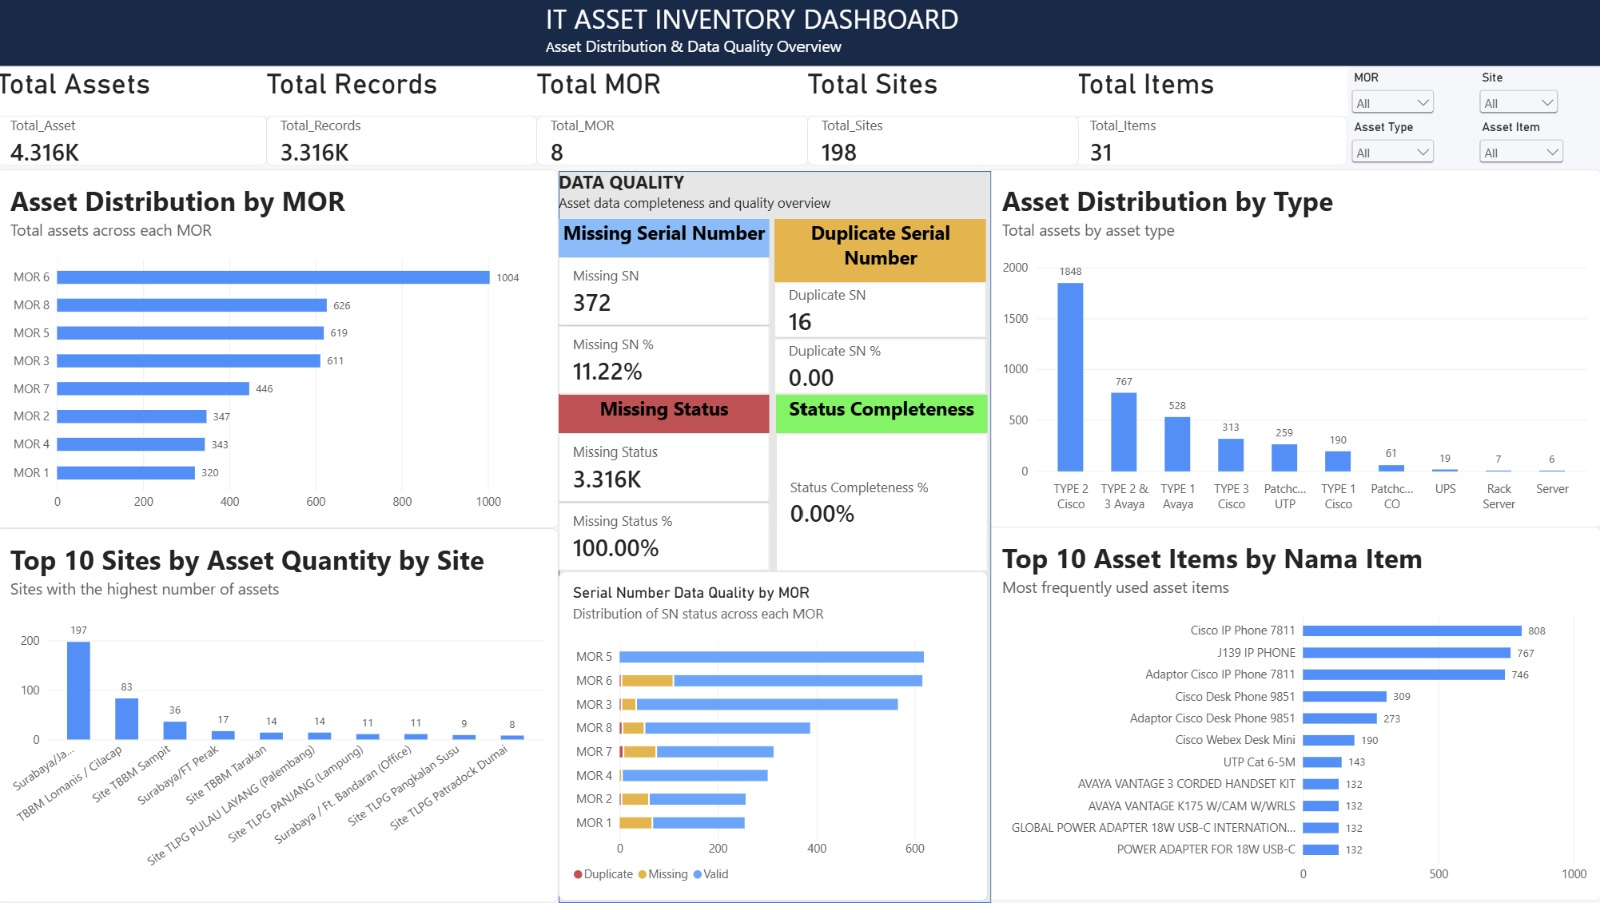

The dashboard page shown, as its layout file describes it:
{"tool":"powerbi","page":{"name":"Overview","canvas":[1920,1080],"ordinal":0},"visuals":[{"type":"barChart","title":"Asset Distribution by MOR","fields":{"Category":["Clean_Data.MOR"],"Y":["Clean_Data.Total_Asset"]},"box":[0,202.7,673.1,428.4],"z":0},{"type":"clusteredColumnChart","title":"Asset Distribution by Type","fields":{"Category":["Clean_Data.Nama Type"],"Y":["Clean_Data.Total_Asset"]},"box":[1185.7,202.7,734.3,428.4],"z":1000},{"type":"columnChart","fields":{"Category":["Clean_Data.Site"],"Y":["Clean_Data.Total_Asset"]},"box":[0,631.2,672.9,447.8],"z":2000},{"type":"barChart","fields":{"Category":["Clean_Data.Nama Item"],"Y":["Clean_Data.Total_Asset"]},"box":[1185.7,629.2,734,448],"z":3000},{"type":"shape","box":[2.1,0,1918.8,79.2],"z":4000},{"type":"textbox","box":[658.3,0,531.2,95.8],"z":5000},{"type":"cardVisual","title":"Total Assets","fields":{"Data":["Clean_Data.Total_Asset"]},"box":[0,81.3,325,118.8],"z":6000},{"type":"cardVisual","title":"Total Records","fields":{"Data":["Clean_Data.Total_Records"]},"box":[322.9,81.3,325,118.8],"z":7000},{"type":"cardVisual","title":"Total MOR","fields":{"Data":["Clean_Data.Total_MOR"]},"box":[645.8,81.3,325,118.8],"z":8000},{"type":"cardVisual","title":"Total Items","fields":{"Data":["Clean_Data.Total_Items"]},"box":[1291.7,81.3,325,118.8],"z":9000},{"type":"cardVisual","title":"Total Sites","fields":{"Data":["Clean_Data.Total_Sites"]},"box":[968.7,81.3,325,118.8],"z":10000},{"type":"shape","box":[672.9,204.2,516.7,875],"z":11000},{"type":"textbox","box":[672.9,202.1,516.7,60.4],"z":12000},{"type":"cardVisual","title":"Missing Serial Number","fields":{"Data":["Clean_Data.Missing SN","Clean_Data.Missing SN %"]},"box":[672.9,262.5,252.1,210.4],"z":13000},{"type":"cardVisual","title":"Duplicate Serial Number","fields":{"Data":["Clean_Data.Duplicate SN","Clean_Data.Duplicate SN %"]},"box":[931.2,262.5,252.1,210.4],"z":14000},{"type":"cardVisual","title":"Missing Status","fields":{"Data":["Clean_Data.Missing Status","Clean_Data.Missing Status %"]},"box":[672.9,472.9,252.1,210.4],"z":15000},{"type":"cardVisual","title":"Status Completeness","fields":{"Data":["Clean_Data.Status Completeness %"]},"box":[933.3,472.9,252.1,210.4],"z":16000},{"type":"barChart","title":"Serial Number Data Quality by MOR","fields":{"Category":["Clean_Data.MOR"],"Series":["Clean_Data.Serial Number Status"],"Y":["Clean_Data.Total_Records"]},"box":[672.9,683.3,512.5,393.8],"z":17000},{"type":"slicer","fields":{"Values":["Clean_Data.MOR"]},"box":[1616.7,83.3,108.3,58.3],"z":18000},{"type":"slicer","fields":{"Values":["Clean_Data.Site"]},"box":[1768.8,83.3,104.2,58.3],"z":19000},{"type":"slicer","fields":{"Values":["Clean_Data.Nama Type"]},"box":[1616.7,143.8,108.3,62.5],"z":20000},{"type":"slicer","fields":{"Values":["Clean_Data.Nama Item"]},"box":[1768.8,143.8,110.4,56.2],"z":21000}]}

Visuals, with their boxes in screenshot pixels (x1, y1, x2, y2), scaled from the page's 1920x1080 canvas onto the 1600x903 screenshot:
"Asset Distribution by MOR" barChart: [left=0, top=169, right=561, bottom=528]
"Asset Distribution by Type" clusteredColumnChart: [left=988, top=169, right=1599, bottom=528]
columnChart - Clean_Data.Site x Clean_Data.Total_Asset: [left=0, top=528, right=561, bottom=902]
barChart - Clean_Data.Nama Item x Clean_Data.Total_Asset: [left=988, top=526, right=1599, bottom=901]
shape: [left=2, top=0, right=1599, bottom=66]
textbox: [left=549, top=0, right=991, bottom=80]
"Total Assets" cardVisual: [left=0, top=68, right=271, bottom=167]
"Total Records" cardVisual: [left=269, top=68, right=540, bottom=167]
"Total MOR" cardVisual: [left=538, top=68, right=809, bottom=167]
"Total Items" cardVisual: [left=1076, top=68, right=1347, bottom=167]
"Total Sites" cardVisual: [left=807, top=68, right=1078, bottom=167]
shape: [left=561, top=171, right=991, bottom=902]
textbox: [left=561, top=169, right=991, bottom=219]
"Missing Serial Number" cardVisual: [left=561, top=219, right=771, bottom=395]
"Duplicate Serial Number" cardVisual: [left=776, top=219, right=986, bottom=395]
"Missing Status" cardVisual: [left=561, top=395, right=771, bottom=571]
"Status Completeness" cardVisual: [left=778, top=395, right=988, bottom=571]
"Serial Number Data Quality by MOR" barChart: [left=561, top=571, right=988, bottom=901]
slicer - Clean_Data.MOR: [left=1347, top=70, right=1438, bottom=118]
slicer - Clean_Data.Site: [left=1474, top=70, right=1561, bottom=118]
slicer - Clean_Data.Nama Type: [left=1347, top=120, right=1438, bottom=172]
slicer - Clean_Data.Nama Item: [left=1474, top=120, right=1566, bottom=167]
